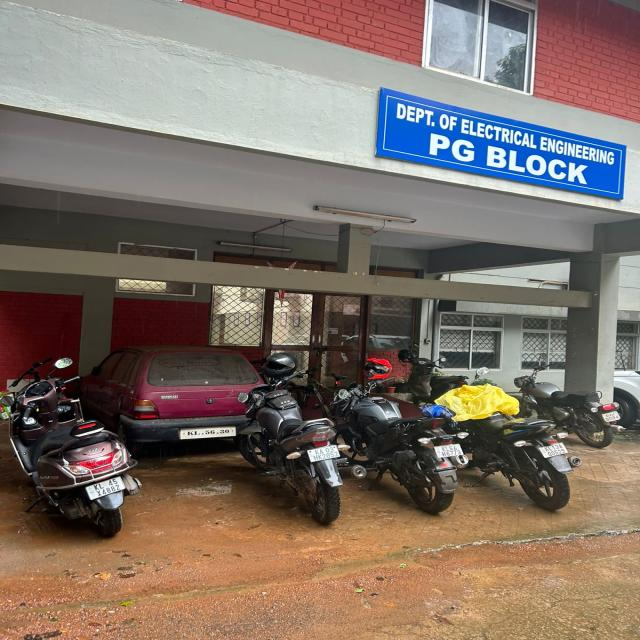motorcycle ahead at: (6, 355, 143, 536)
